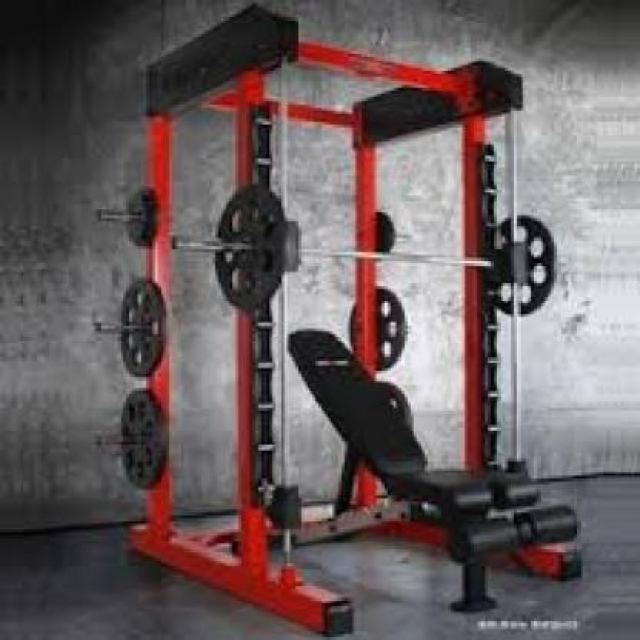smith machine: (144, 6, 582, 620)
